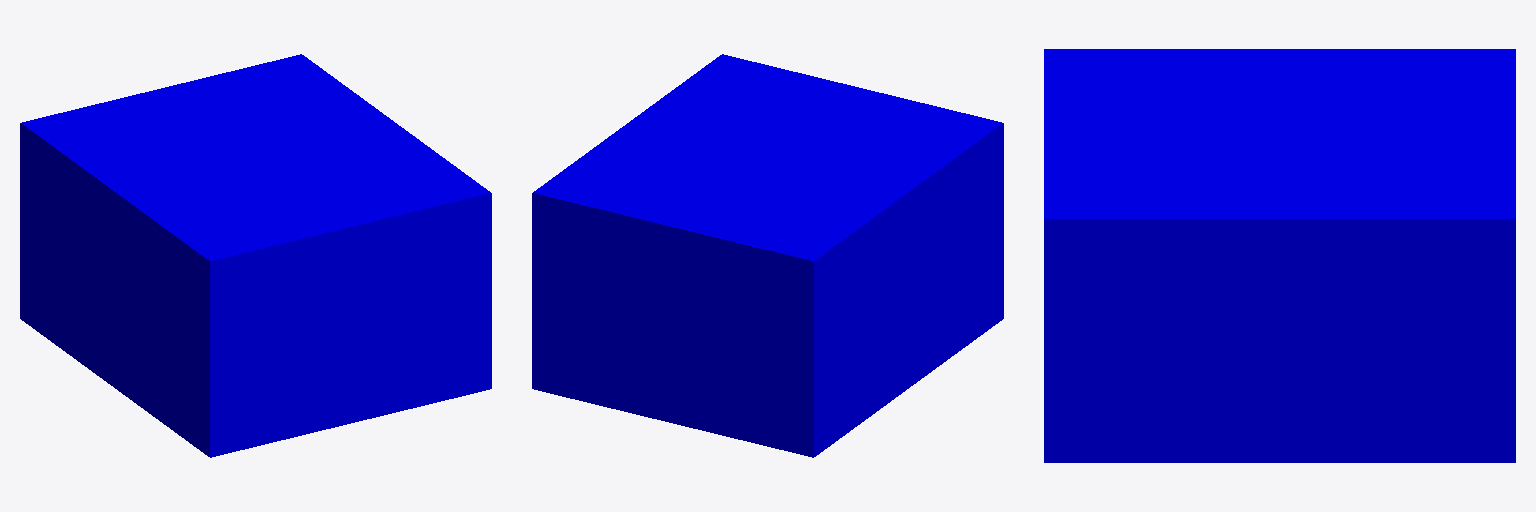
URDF robot description (cubeDE4):
<?xml version="1.0"?>
<robot name="cubeDE4">
	<link name="base">
	<inertial>
        	 <origin xyz="0 0 0" rpy="0 0 0"/>
        	 <mass value="0.5"/>
        	 <inertia ixx="0.000683333"  ixy="0"  ixz="0" iyy="0.000683333" iyz="0" izz="0.000683333" />
       </inertial>
		<visual>
			<origin xyz="0 0 0" rpy="0 0 0" />
			<geometry>
				<box size="0.03 0.035 0.02" />
			</geometry>
			<material>
				<color rgba="0 0 1 1" />
			</material>
		</visual>
		<collision>
			<origin xyz="0 0 0" rpy="0 0 0" />
			<material>
				<color rgba="0 0 1 1" />
			</material>
			<geometry>
				<box size="0.03 0.035 0.02" />
			</geometry>
			
		</collision>
	</link>
</robot>

--- Render facts (derived) ---
3 views of the same robot in one strip: view 1: azimuth 30°, elevation 25°; view 2: azimuth 150°, elevation 25°; view 3: azimuth 270°, elevation 25° (orthographic).
Model cubeDE4 with 1 links and 0 joints (none), rooted at base, posed every joint at zero.
Visible links, largest first — view 1: base; view 2: base; view 3: base.
Link boxes in pixels (x1,y1,x2,y2): base: [20, 54, 491, 457]; base: [532, 54, 1003, 457]; base: [1044, 49, 1515, 462].
Size in the robot's own frame: 0.03 by 0.035 by 0.02 metres.
Geometry: primitives only (box / cylinder / sphere), no mesh files.
